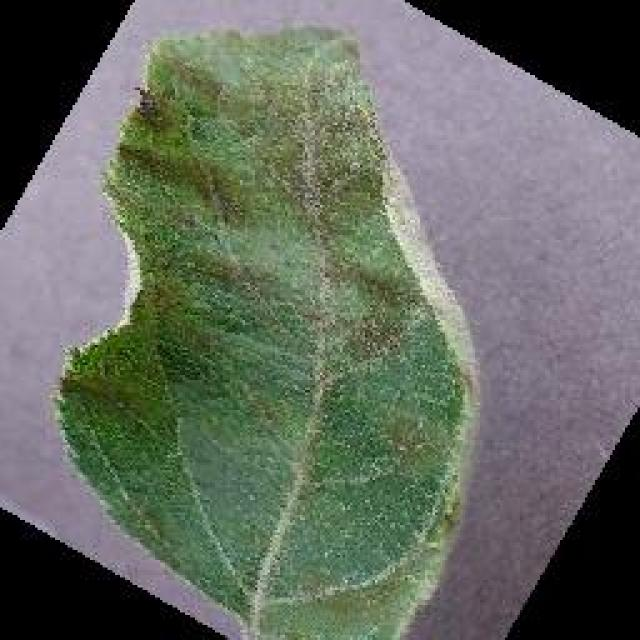apple scab disease: (50, 20, 482, 638)
